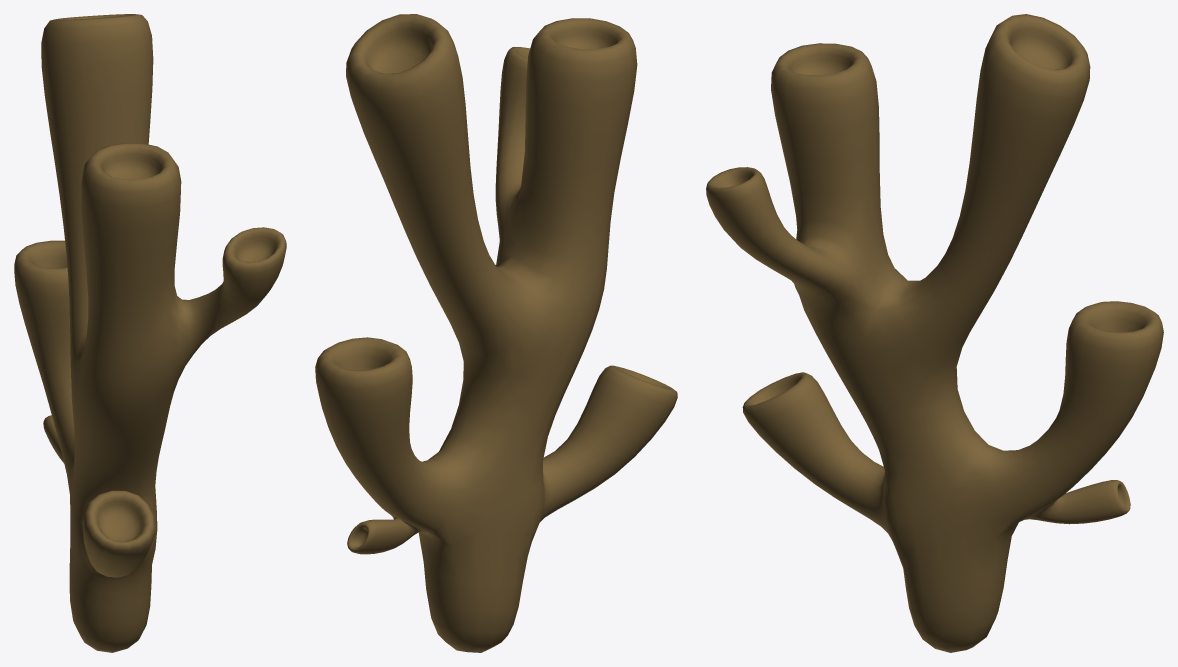
File: coral12.fbx
3 views of the same model, side by side, from view 1: azimuth 30°, elevation 25°; view 2: azimuth 150°, elevation 25°; view 3: azimuth 270°, elevation 25° (orthographic). The views are drawn at different scales.
Parts seen in each view (by area): view 1: soft coral 001; view 2: soft coral 001; view 3: soft coral 001.
Part boxes in pixels (x1,y1,x2,y2): soft coral 001: (14, 14, 286, 652); soft coral 001: (315, 14, 677, 652); soft coral 001: (706, 14, 1163, 652).
Bounding box in the file's own units: 332 × 1076 × 703.
